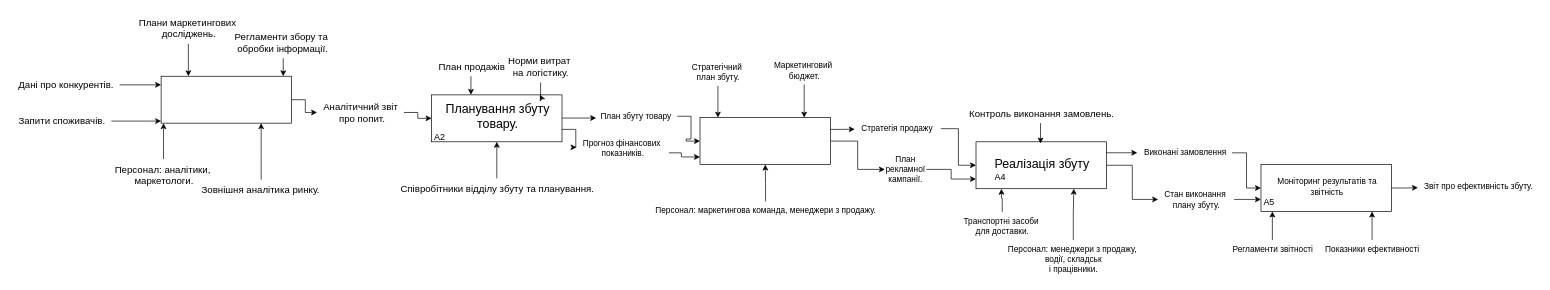
The diagram is 1550 pixels wide and 290 high, and some of its shapes have lost their labels. The shapes that lost their labels are listed below. From the top down, each one's box as (x1, y1, x2, y2) in pixels, then its label:
(160, 76, 292, 123): Аналіз ринку та попиту. А1
(699, 117, 830, 165): Вироблення стратегії продажу. А3
